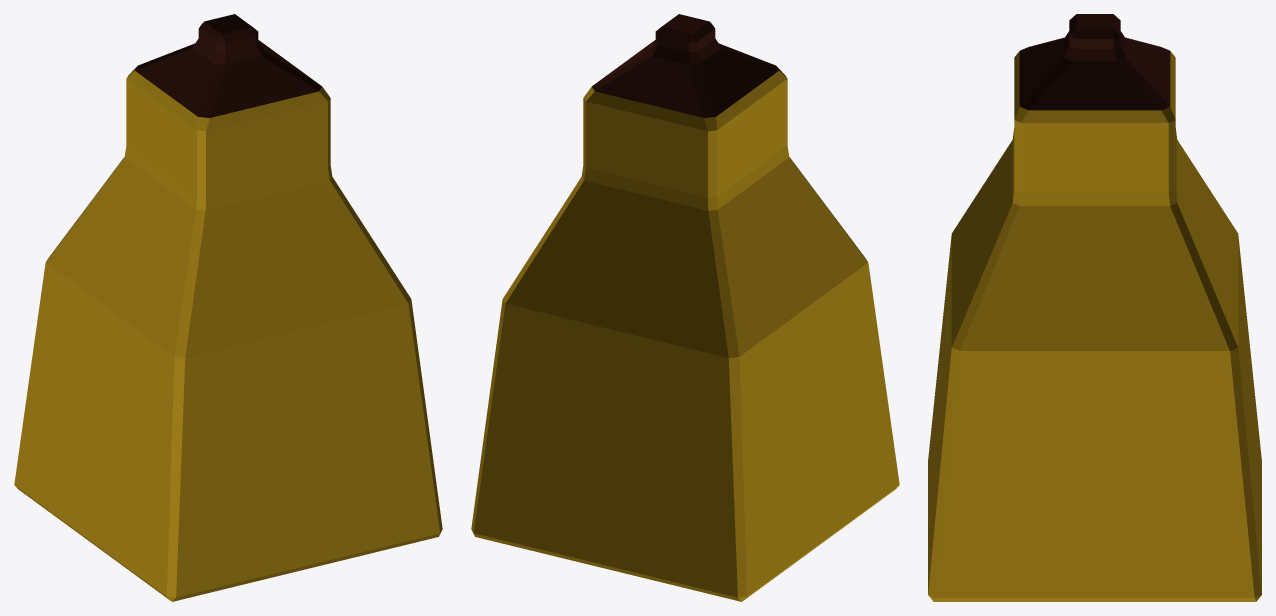
File: Seasoning Bottle 2.fbx
3 views of the same model, side by side, from view 1: azimuth 30°, elevation 25°; view 2: azimuth 150°, elevation 25°; view 3: azimuth 270°, elevation 25° (orthographic). The views are drawn at different scales.
Parts seen in each view (by area): view 1: Node 0; view 2: Node 0; view 3: Node 0.
Boxes of the visible parts, x1,y1,x2,y2 form: Node 0: (14, 14, 442, 601); Node 0: (471, 14, 899, 601); Node 0: (928, 14, 1261, 601).
Size of the model in its own units: 0.0714 by 0.1208 by 0.0714.
